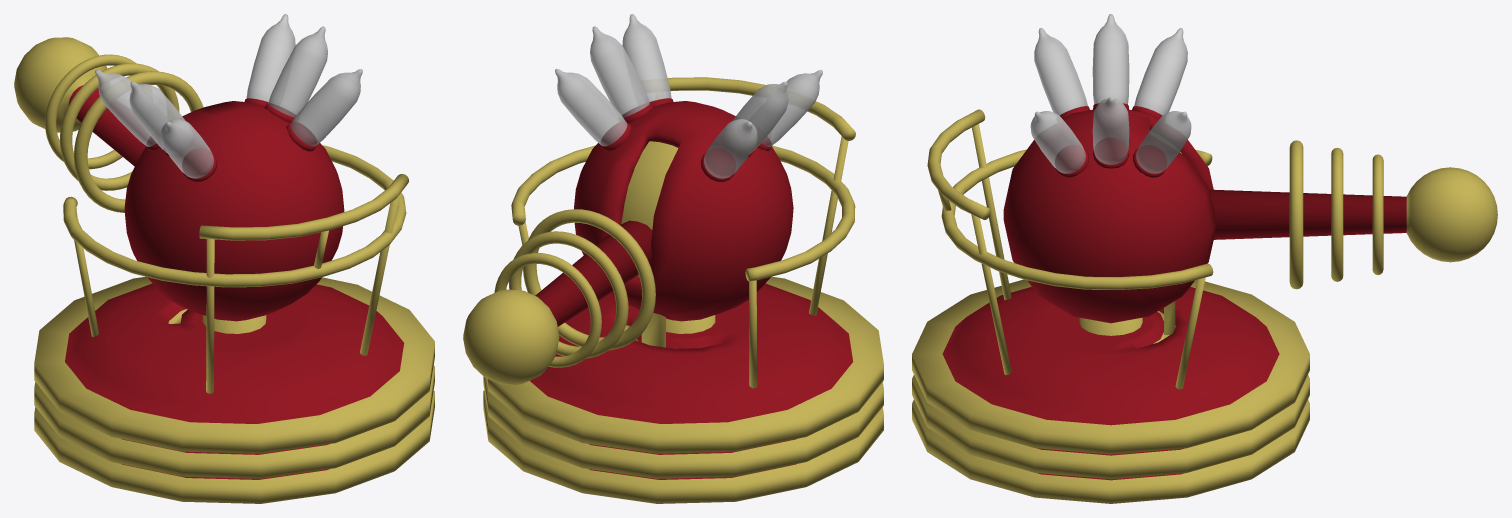
The model's file is DisruptorV2.fbx.
3 views of the same model, side by side, from view 1: azimuth 30°, elevation 25°; view 2: azimuth 150°, elevation 25°; view 3: azimuth 270°, elevation 25° (orthographic).
Parts seen in each view (by area): view 1: TurretBase, Turret, TurretCoil; view 2: TurretBase, Turret, TurretCoil; view 3: TurretBase, Turret, TurretCoil.
Part boxes in pixels (x1,y1,x2,y2): TurretBase: [34, 145, 434, 503]; Turret: [95, 14, 362, 333]; TurretCoil: [14, 37, 203, 212]; TurretBase: [483, 77, 883, 503]; Turret: [555, 14, 822, 347]; TurretCoil: [463, 141, 678, 384]; TurretBase: [912, 109, 1309, 503]; Turret: [1003, 14, 1216, 335]; TurretCoil: [1179, 140, 1497, 289].
Size of the model in its own units: 176 by 178 by 259.
